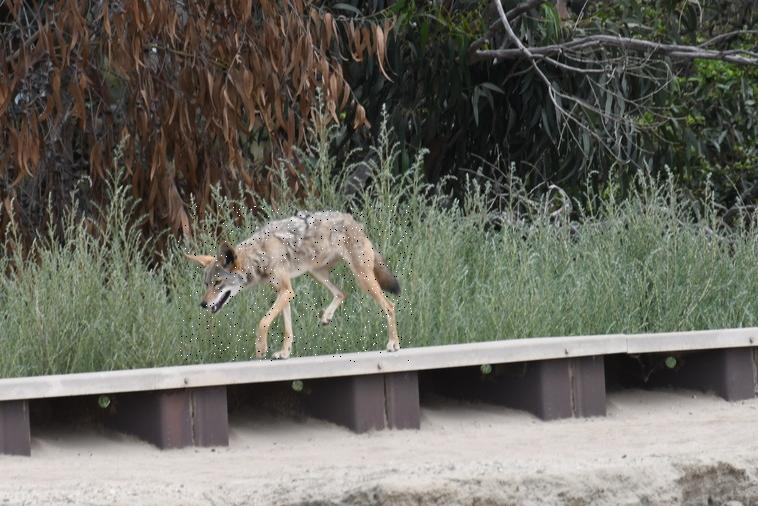Coyote: (178, 205, 412, 362)
